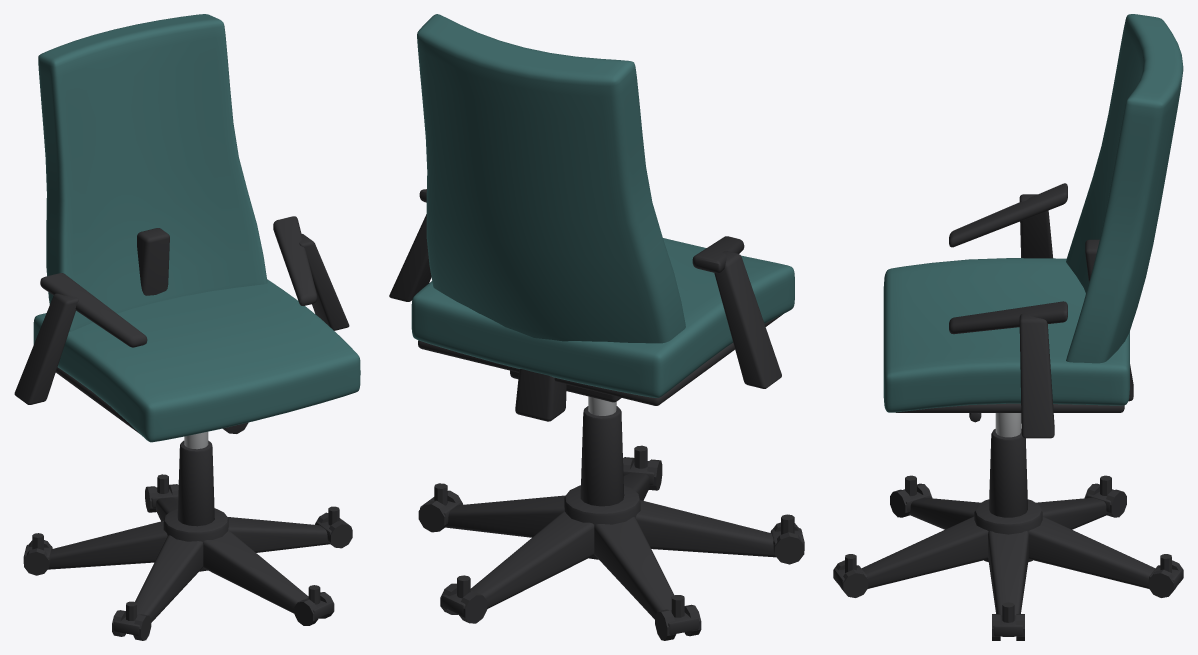
The model's file is task-chair.glb.
3 views of the same model, side by side, from view 1: azimuth 30°, elevation 25°; view 2: azimuth 150°, elevation 25°; view 3: azimuth 270°, elevation 25° (orthographic). The views are drawn at different scales.
Parts seen in each view (by area): view 1: TaskChair; view 2: TaskChair; view 3: TaskChair.
Part boxes in pixels (box(x1,y1,x2,y2)): TaskChair: box(14, 14, 360, 640); TaskChair: box(389, 14, 804, 640); TaskChair: box(833, 14, 1183, 640).
Size of the model in its own units: 0.701 by 1.03 by 0.6344.
